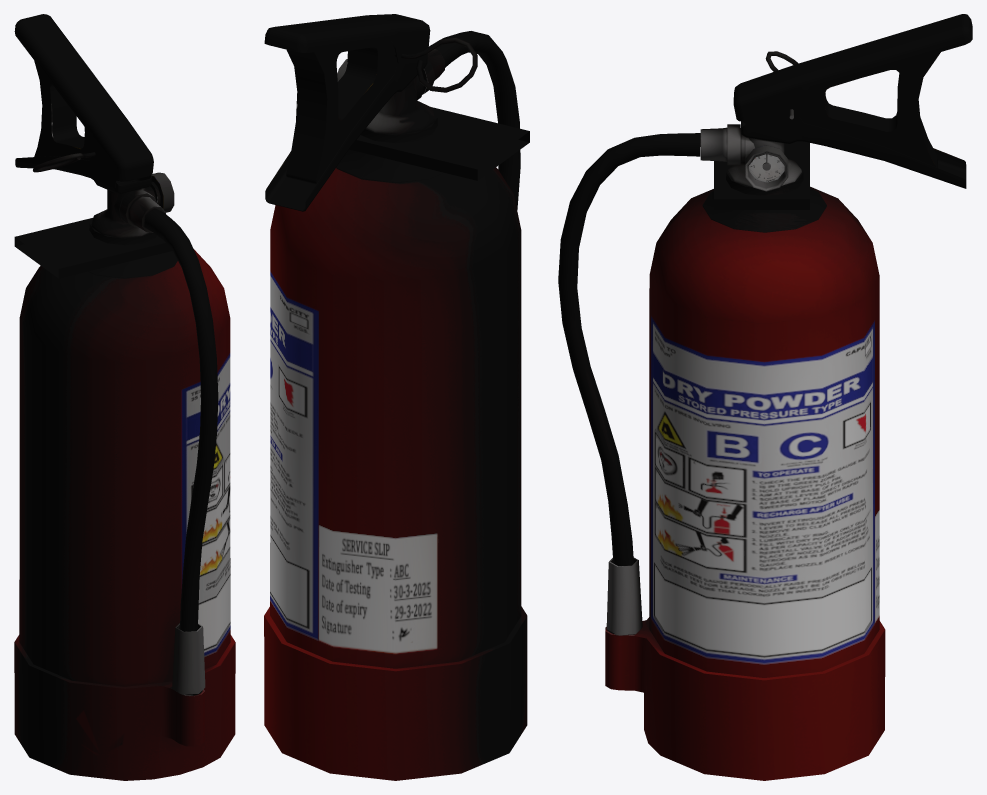
File: FireExtinguisher1S1IN.fbx
The picture shows the model from 3 angles, left to right: view 1: azimuth 30°, elevation 25°; view 2: azimuth 150°, elevation 25°; view 3: azimuth 270°, elevation 25°; orthographic projection. The views are drawn at different scales.
Visible parts, largest first — view 1: FireExtinguisher; view 2: FireExtinguisher; view 3: FireExtinguisher.
Part boxes in pixels (bbox=[...]): FireExtinguisher: bbox=[14, 14, 235, 780]; FireExtinguisher: bbox=[264, 14, 529, 780]; FireExtinguisher: bbox=[558, 14, 972, 780].
Bounding box in the file's own units: 20.77 × 67.36 × 35.66.
1 material, 1 textured.
